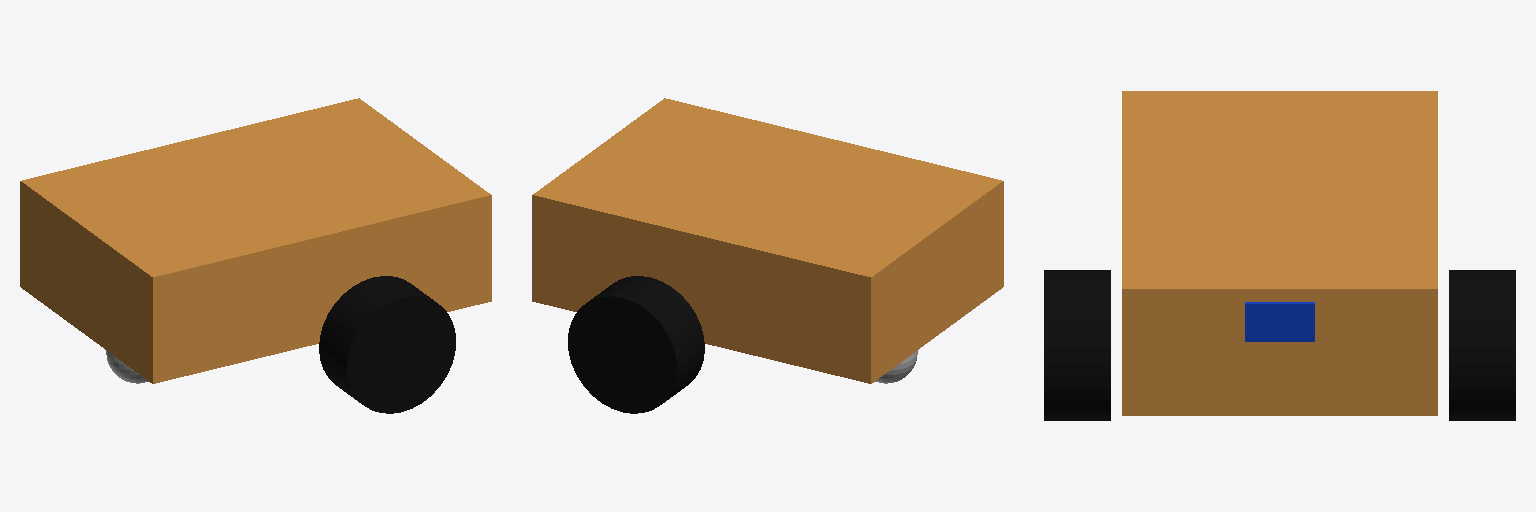
The robot description file, URDF, robot "pai_bot":
<?xml version="1.0"?>
<!--
  pai_bot: Pi 4 ve Pico robotlarin ORTAK sasisi.
  Gercek robotu bu olculere gore yap:
    - Tekerlek capi 43 mm (yaricap 0.0215 m), genislik 19 mm
    - Tekerlek merkezleri arasi 115 mm
    - Sarhos teker: tekerlek aksinin 65 mm arkasinda
    - Govde ayak izi 133 x 90 mm (design/design.py: x = -85 .. +48); detayli 3B tasarim design/ klasorunde
    - ToF sensorler: yerden ~5 cm yukseklikte, sol/sag +-30 derece
-->
<robot name="pai_bot">

  <link name="base_footprint"/>

  <joint name="base_joint" type="fixed">
    <parent link="base_footprint"/>
    <child link="base_link"/>
    <origin xyz="0 0 0.0215" rpy="0 0 0"/>
  </joint>

  <!-- Sasi + elektronik kati (tek kutu olarak) -->
  <link name="base_link">
    <visual>
      <origin xyz="-0.0185 0 0.02" rpy="0 0 0"/>
      <geometry><box size="0.133 0.09 0.04"/></geometry>
      <material name="plate"><color rgba="0.85 0.6 0.3 1"/></material>
    </visual>
    <collision>
      <origin xyz="-0.0185 0 0.02" rpy="0 0 0"/>
      <geometry><box size="0.133 0.09 0.04"/></geometry>
    </collision>
    <inertial>
      <origin xyz="-0.0185 0 0.02" rpy="0 0 0"/>
      <mass value="0.35"/>
      <inertia ixx="0.000283" ixy="0" ixz="0" iyy="0.00054" iyz="0" izz="0.000729"/>
    </inertial>
  </link>

  <!-- Tekerlekler -->
  <link name="left_wheel">
    <visual>
      <geometry><cylinder radius="0.0215" length="0.019"/></geometry>
      <material name="rubber"><color rgba="0.1 0.1 0.1 1"/></material>
    </visual>
    <collision>
      <geometry><cylinder radius="0.0215" length="0.019"/></geometry>
    </collision>
    <inertial>
      <mass value="0.02"/>
      <inertia ixx="2.91e-6" ixy="0" ixz="0" iyy="2.91e-6" iyz="0" izz="4.62e-6"/>
    </inertial>
  </link>
  <joint name="left_wheel_joint" type="continuous">
    <parent link="base_link"/>
    <child link="left_wheel"/>
    <origin xyz="0 0.0575 0" rpy="-1.5708 0 0"/>
    <axis xyz="0 0 1"/>
  </joint>

  <link name="right_wheel">
    <visual>
      <geometry><cylinder radius="0.0215" length="0.019"/></geometry>
      <material name="rubber"><color rgba="0.1 0.1 0.1 1"/></material>
    </visual>
    <collision>
      <geometry><cylinder radius="0.0215" length="0.019"/></geometry>
    </collision>
    <inertial>
      <mass value="0.02"/>
      <inertia ixx="2.91e-6" ixy="0" ixz="0" iyy="2.91e-6" iyz="0" izz="4.62e-6"/>
    </inertial>
  </link>
  <joint name="right_wheel_joint" type="continuous">
    <parent link="base_link"/>
    <child link="right_wheel"/>
    <origin xyz="0 -0.0575 0" rpy="-1.5708 0 0"/>
    <axis xyz="0 0 1"/>
  </joint>

  <!-- Sarhos teker (surtunmesiz kure) -->
  <link name="caster">
    <visual>
      <geometry><sphere radius="0.0107"/></geometry>
      <material name="metal"><color rgba="0.7 0.7 0.7 1"/></material>
    </visual>
    <collision>
      <geometry><sphere radius="0.0107"/></geometry>
    </collision>
    <inertial>
      <mass value="0.01"/>
      <inertia ixx="4.58e-7" ixy="0" ixz="0" iyy="4.58e-7" iyz="0" izz="4.58e-7"/>
    </inertial>
  </link>
  <joint name="caster_joint" type="fixed">
    <parent link="base_link"/>
    <child link="caster"/>
    <origin xyz="-0.065 0 -0.0108" rpy="0 0 0"/>
  </joint>

  <!-- ToF sensorleri (TOF400C VL53L1X: 27 derece, 4 m) -->
  <link name="tof_left_link">
    <visual>
      <geometry><box size="0.005 0.02 0.012"/></geometry>
      <material name="sensor"><color rgba="0.1 0.3 0.8 1"/></material>
    </visual>
    <inertial><mass value="0.001"/><inertia ixx="1e-8" ixy="0" ixz="0" iyy="1e-8" iyz="0" izz="1e-8"/></inertial>
  </link>
  <joint name="tof_left_joint" type="fixed">
    <parent link="base_link"/>
    <child link="tof_left_link"/>
    <origin xyz="0.04 0.03 0.03" rpy="0 0 0.5236"/>
  </joint>

  <link name="tof_center_link">
    <visual>
      <geometry><box size="0.005 0.02 0.012"/></geometry>
      <material name="sensor"><color rgba="0.1 0.3 0.8 1"/></material>
    </visual>
    <inertial><mass value="0.001"/><inertia ixx="1e-8" ixy="0" ixz="0" iyy="1e-8" iyz="0" izz="1e-8"/></inertial>
  </link>
  <joint name="tof_center_joint" type="fixed">
    <parent link="base_link"/>
    <child link="tof_center_link"/>
    <origin xyz="0.047 0 0.03" rpy="0 0 0"/>
  </joint>

  <link name="tof_right_link">
    <visual>
      <geometry><box size="0.005 0.02 0.012"/></geometry>
      <material name="sensor"><color rgba="0.1 0.3 0.8 1"/></material>
    </visual>
    <inertial><mass value="0.001"/><inertia ixx="1e-8" ixy="0" ixz="0" iyy="1e-8" iyz="0" izz="1e-8"/></inertial>
  </link>
  <joint name="tof_right_joint" type="fixed">
    <parent link="base_link"/>
    <child link="tof_right_link"/>
    <origin xyz="0.04 -0.03 0.03" rpy="0 0 -0.5236"/>
  </joint>

  <!-- IMU (MPU6050) -->
  <link name="imu_link">
    <inertial><mass value="0.001"/><inertia ixx="1e-8" ixy="0" ixz="0" iyy="1e-8" iyz="0" izz="1e-8"/></inertial>
  </link>
  <joint name="imu_joint" type="fixed">
    <parent link="base_link"/>
    <child link="imu_link"/>
    <origin xyz="-0.0185 0 0.02" rpy="0 0 0"/>
  </joint>

  <!-- ===================== Gazebo ayarlari ===================== -->

  <gazebo reference="caster_joint">
    <preserveFixedJoint>true</preserveFixedJoint>
  </gazebo>
  <gazebo reference="caster">
    <mu1>0.0</mu1>
    <mu2>0.0</mu2>
  </gazebo>
  <gazebo reference="left_wheel">
    <mu1>1.0</mu1>
    <mu2>1.0</mu2>
  </gazebo>
  <gazebo reference="right_wheel">
    <mu1>1.0</mu1>
    <mu2>1.0</mu2>
  </gazebo>

  <gazebo reference="tof_left_link">
    <sensor name="tof_left" type="gpu_lidar">
      <topic>/tof_left/scan</topic>
      <gz_frame_id>tof_left_link</gz_frame_id>
      <update_rate>50</update_rate>
      <always_on>true</always_on>
      <visualize>true</visualize>
      <lidar>
        <scan>
          <horizontal><samples>9</samples><resolution>1</resolution><min_angle>-0.2356</min_angle><max_angle>0.2356</max_angle></horizontal>
          <vertical><samples>1</samples><resolution>1</resolution><min_angle>0</min_angle><max_angle>0</max_angle></vertical>
        </scan>
        <range><min>0.04</min><max>4.0</max><resolution>0.001</resolution></range>
        <noise><type>gaussian</type><mean>0.0</mean><stddev>0.01</stddev></noise>
      </lidar>
    </sensor>
  </gazebo>

  <gazebo reference="tof_center_link">
    <sensor name="tof_center" type="gpu_lidar">
      <topic>/tof_center/scan</topic>
      <gz_frame_id>tof_center_link</gz_frame_id>
      <update_rate>50</update_rate>
      <always_on>true</always_on>
      <visualize>true</visualize>
      <lidar>
        <scan>
          <horizontal><samples>9</samples><resolution>1</resolution><min_angle>-0.2356</min_angle><max_angle>0.2356</max_angle></horizontal>
          <vertical><samples>1</samples><resolution>1</resolution><min_angle>0</min_angle><max_angle>0</max_angle></vertical>
        </scan>
        <range><min>0.04</min><max>4.0</max><resolution>0.001</resolution></range>
        <noise><type>gaussian</type><mean>0.0</mean><stddev>0.01</stddev></noise>
      </lidar>
    </sensor>
  </gazebo>

  <gazebo reference="tof_right_link">
    <sensor name="tof_right" type="gpu_lidar">
      <topic>/tof_right/scan</topic>
      <gz_frame_id>tof_right_link</gz_frame_id>
      <update_rate>50</update_rate>
      <always_on>true</always_on>
      <visualize>true</visualize>
      <lidar>
        <scan>
          <horizontal><samples>9</samples><resolution>1</resolution><min_angle>-0.2356</min_angle><max_angle>0.2356</max_angle></horizontal>
          <vertical><samples>1</samples><resolution>1</resolution><min_angle>0</min_angle><max_angle>0</max_angle></vertical>
        </scan>
        <range><min>0.04</min><max>4.0</max><resolution>0.001</resolution></range>
        <noise><type>gaussian</type><mean>0.0</mean><stddev>0.01</stddev></noise>
      </lidar>
    </sensor>
  </gazebo>

  <gazebo reference="imu_link">
    <sensor name="imu" type="imu">
      <topic>/imu</topic>
      <gz_frame_id>imu_link</gz_frame_id>
      <update_rate>100</update_rate>
      <always_on>true</always_on>
    </sensor>
  </gazebo>

  <gazebo>
    <plugin filename="gz-sim-diff-drive-system" name="gz::sim::systems::DiffDrive">
      <left_joint>left_wheel_joint</left_joint>
      <right_joint>right_wheel_joint</right_joint>
      <wheel_separation>0.115</wheel_separation>
      <wheel_radius>0.0215</wheel_radius>
      <topic>/cmd_vel</topic>
      <odom_topic>/odom</odom_topic>
      <tf_topic>/tf</tf_topic>
      <frame_id>odom</frame_id>
      <child_frame_id>base_footprint</child_frame_id>
      <odom_publish_frequency>30</odom_publish_frequency>
    </plugin>
    <plugin filename="gz-sim-joint-state-publisher-system" name="gz::sim::systems::JointStatePublisher">
      <topic>/joint_states</topic>
    </plugin>
  </gazebo>

</robot>

--- Render facts (derived) ---
The picture shows the robot from 3 angles, left to right: view 1: azimuth 30°, elevation 25°; view 2: azimuth 150°, elevation 25°; view 3: azimuth 270°, elevation 25°; orthographic projection.
Robot: pai_bot — 9 links, 8 joints (2 continuous, 6 fixed); root link base_footprint; default pose: every joint at zero.
Visible links, largest first — view 1: base_link, right_wheel, caster; view 2: base_link, left_wheel, caster; view 3: base_link, left_wheel, right_wheel, tof_center_link.
Link boxes in pixels (x1,y1,x2,y2): base_link: (20, 98, 491, 383); right_wheel: (319, 276, 455, 413); caster: (106, 350, 148, 383); base_link: (532, 98, 1003, 383); left_wheel: (568, 276, 704, 413); caster: (875, 350, 917, 383); base_link: (1122, 91, 1437, 415); left_wheel: (1449, 270, 1515, 420); right_wheel: (1044, 270, 1110, 420); tof_center_link: (1245, 302, 1314, 341).
Bounding box of the posed robot: 0.1345 × 0.134 × 0.0615 m (x, y, z).
Geometry: primitives only (box / cylinder / sphere), no mesh files.
